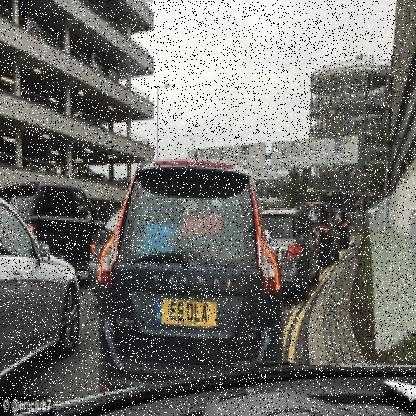licence: (160, 296, 218, 328)
